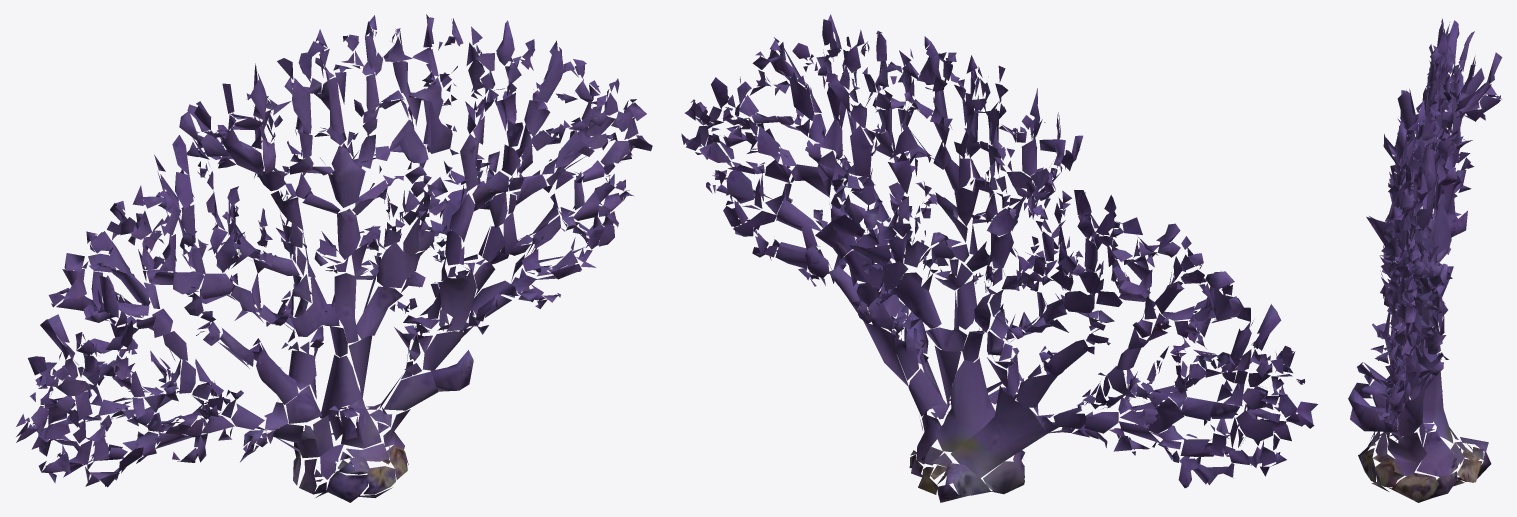
File: coral_fan_a.glb
The picture shows the model from 3 angles, left to right: view 1: azimuth 30°, elevation 25°; view 2: azimuth 150°, elevation 25°; view 3: azimuth 270°, elevation 25°; orthographic projection.
Visible parts, largest first — view 1: tripo_node_6ba0572a-7542-42d5-b8fa-c49b231f6e15; view 2: tripo_node_6ba0572a-7542-42d5-b8fa-c49b231f6e15; view 3: tripo_node_6ba0572a-7542-42d5-b8fa-c49b231f6e15.
Part boxes in pixels (<box>): tripo_node_6ba0572a-7542-42d5-b8fa-c49b231f6e15: <box>16,14,652,502</box>; tripo_node_6ba0572a-7542-42d5-b8fa-c49b231f6e15: <box>681,14,1317,502</box>; tripo_node_6ba0572a-7542-42d5-b8fa-c49b231f6e15: <box>1348,18,1502,502</box>.
Bounding box in the file's own units: 0.9945 × 0.6724 × 0.2095.
1 material, 1 textured.
